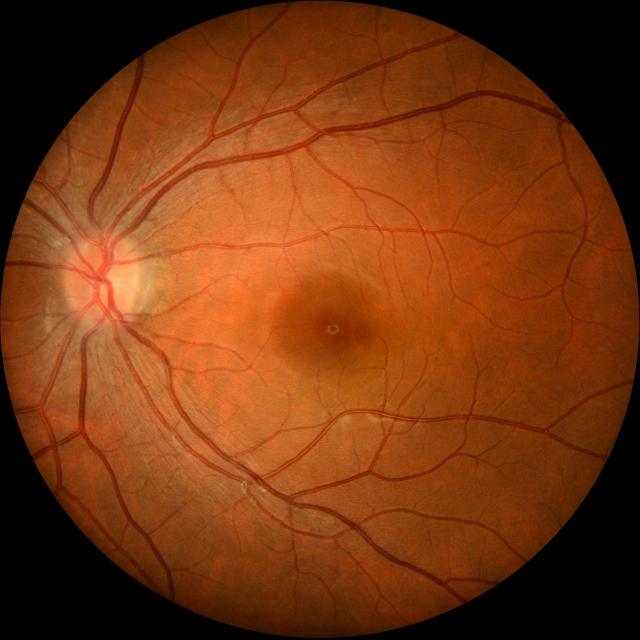OC: (94, 269, 124, 299)
OD: (64, 233, 142, 327)
